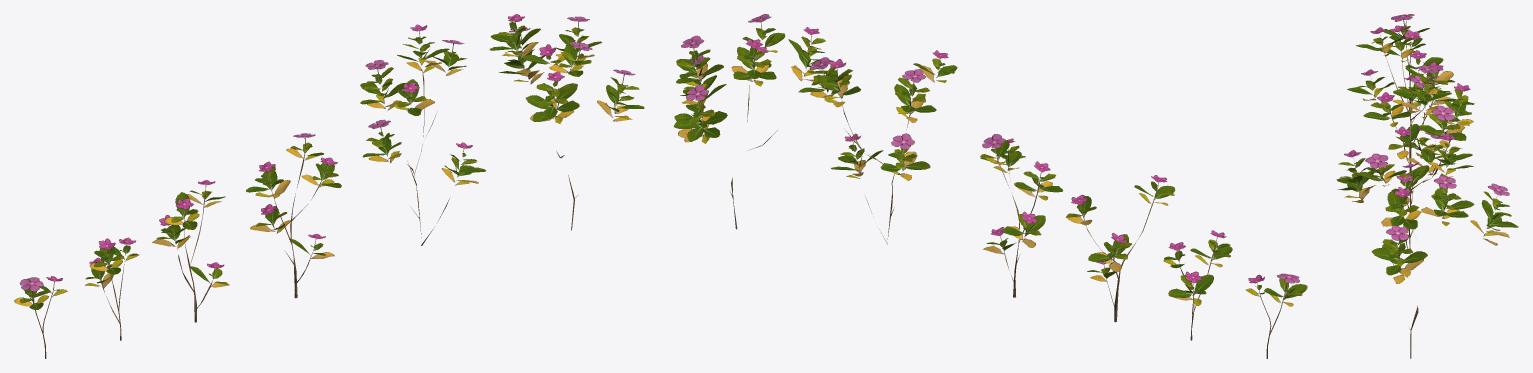
The model's file is periwinkle_plant.glb.
3 renders of one model, left to right at view 1: azimuth 30°, elevation 25°; view 2: azimuth 150°, elevation 25°; view 3: azimuth 270°, elevation 25°, orthographic. The views are drawn at different scales.
Visible parts, largest first — view 1: periwinkle_plant_01_LOD0, periwinkle_plant_02_LOD0, periwinkle_plant_03_LOD0, periwinkle_plant_04_LOD0, periwinkle_plant_05_LOD0, periwinkle_plant_06_LOD0; view 2: periwinkle_plant_01_LOD0, periwinkle_plant_02_LOD0, periwinkle_plant_03_LOD0, periwinkle_plant_04_LOD0, periwinkle_plant_05_LOD0, periwinkle_plant_06_LOD0; view 3: periwinkle_plant_01_LOD0, periwinkle_plant_02_LOD0, periwinkle_plant_03_LOD0, periwinkle_plant_04_LOD0, periwinkle_plant_05_LOD0, periwinkle_plant_06_LOD0.
Part boxes in pixels (x1,y1,x2,y2): periwinkle_plant_01_LOD0: (489,14,644,230); periwinkle_plant_02_LOD0: (360,24,485,245); periwinkle_plant_03_LOD0: (246,133,341,298); periwinkle_plant_04_LOD0: (152,180,229,322); periwinkle_plant_05_LOD0: (85,237,138,340); periwinkle_plant_06_LOD0: (14,276,67,358); periwinkle_plant_01_LOD0: (673,14,833,229); periwinkle_plant_02_LOD0: (798,50,957,244); periwinkle_plant_03_LOD0: (980,134,1062,297); periwinkle_plant_04_LOD0: (1066,175,1175,322); periwinkle_plant_05_LOD0: (1163,230,1232,340); periwinkle_plant_06_LOD0: (1246,273,1307,358); periwinkle_plant_01_LOD0: (1336,133,1518,358); periwinkle_plant_02_LOD0: (1347,65,1474,254); periwinkle_plant_03_LOD0: (1363,75,1441,212); periwinkle_plant_04_LOD0: (1356,27,1456,171); periwinkle_plant_05_LOD0: (1377,25,1454,125); periwinkle_plant_06_LOD0: (1383,14,1429,103).
Bounding box in the file's own units: 1.24 × 0.4107 × 0.3208.
Materials: 1 (1 with a texture image).
